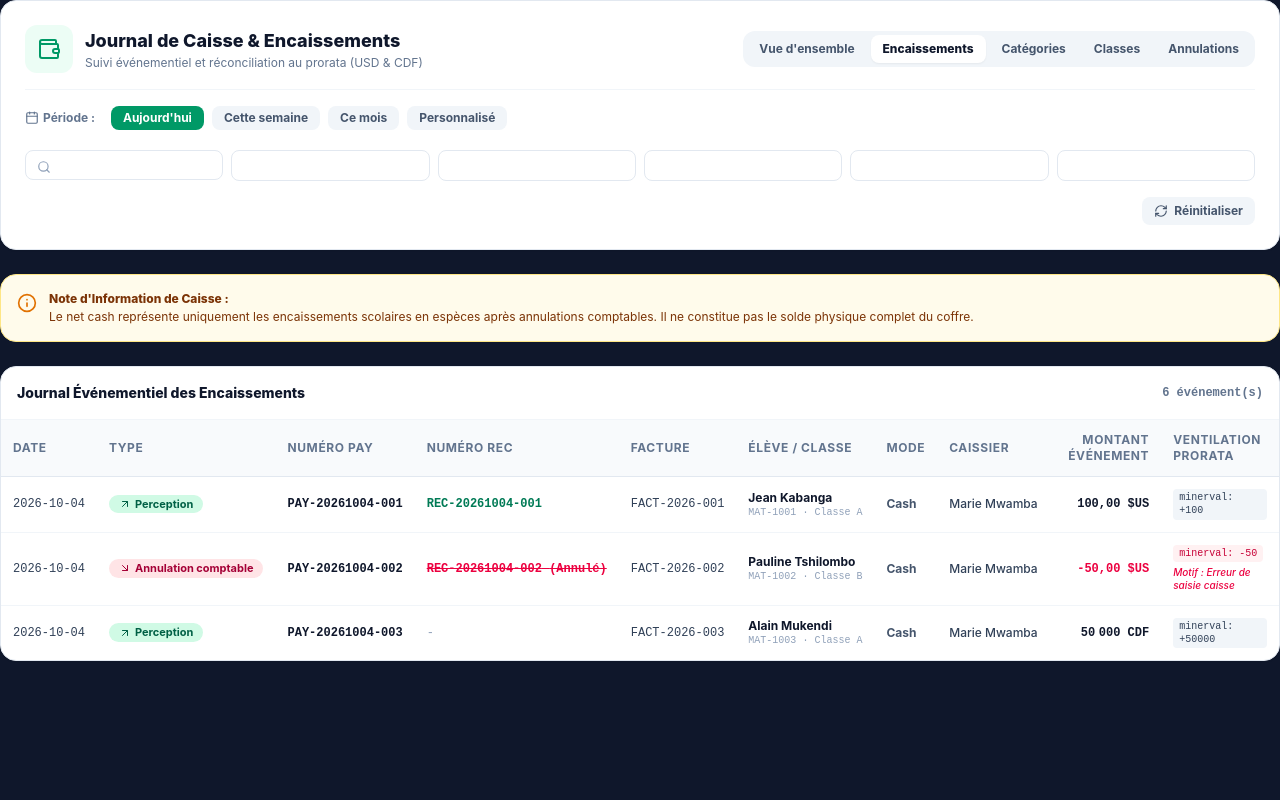
Test: LOT 2K-FIN-CASH-F-V2 — Module Caisse, Classes, Caissiers, Reçus et Date Locale › 6. Reçus dans la Modal (Actif vs Annulé vs Sans Reçu) › ouvre la modale pour un reçu annulé ("Reçu de Paiement Annulé (Archivé)")
The image size is (1280, 800).
Click the button "REC-20261004-002 (Annulé)": (517, 569) [427,561,607,577]
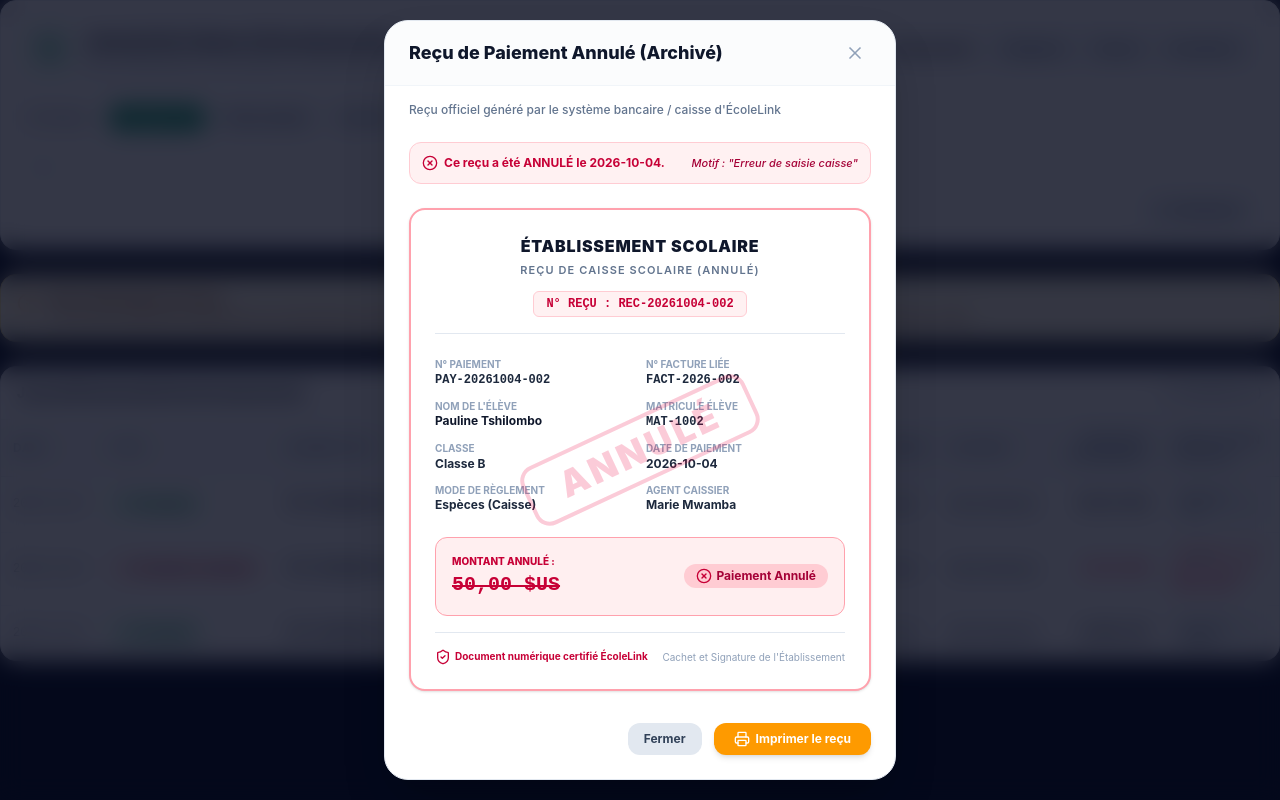
Now the heading "Reçu de Paiement Annulé (Archivé)" is shown, box [409,39,723,67]
